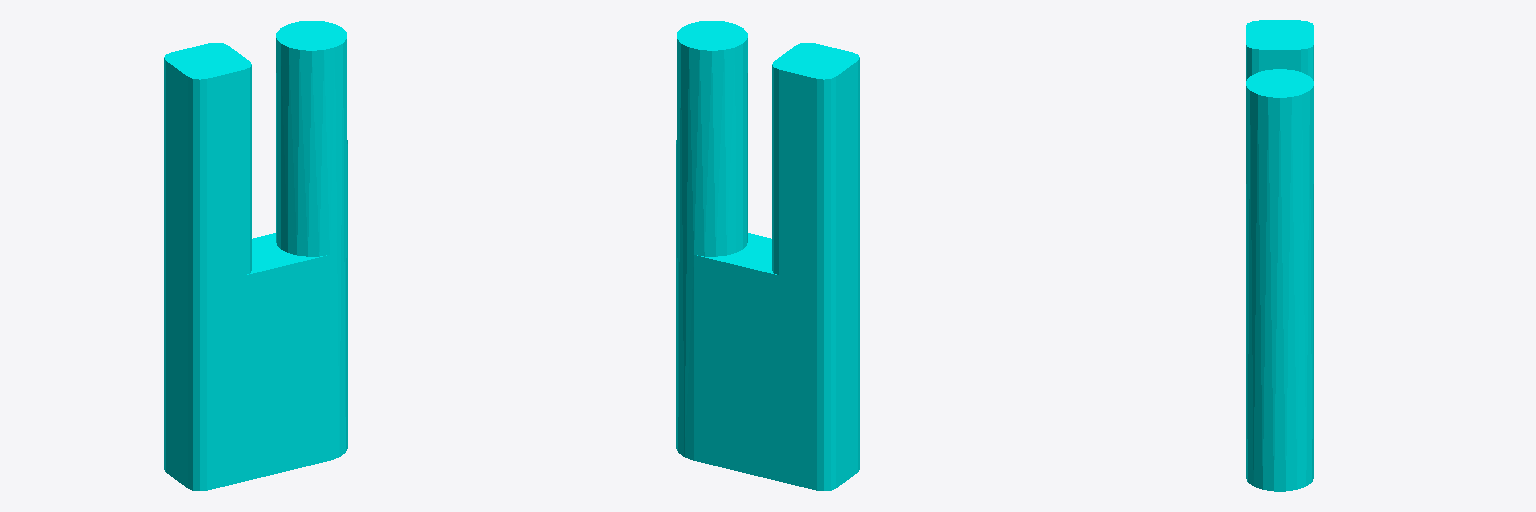
The robot description file, URDF, robot "Large_Long_SquareCircle_Brown":
<?xml version="1.0"?>
<robot name="Large_Long_SquareCircle_Brown">
    <link name="Large_Long_SquareCircle_Brown">
        <visual>
            <geometry>
                <mesh filename="../mesh/factory_insertion/Large_Long_SquareCircle_Brown.obj" scale="0.001 0.001 0.001"/>
            </geometry>
            <material name="Brown">
              <color rgba="0 1.0 1.0 1.0"/>
            </material>
        </visual>
        <collision>
            <geometry>
                <mesh filename="../mesh/factory_insertion/Large_Long_SquareCircle_Brown.obj" scale="0.001 0.001 0.001"/>
            </geometry>
            <sdf resolution="512"/>
        </collision>
    </link>
</robot>

--- What the picture shows (computed from the rendered views, not written in the file) ---
Views: 3 orthographic renders of the robot side by side, from view 1: azimuth 30°, elevation 25°; view 2: azimuth 150°, elevation 25°; view 3: azimuth 270°, elevation 25°.
Model Large_Long_SquareCircle_Brown with 1 links and 0 joints (none), rooted at Large_Long_SquareCircle_Brown, posed all joints at 0.
Links seen in each view (by area): view 1: Large_Long_SquareCircle_Brown; view 2: Large_Long_SquareCircle_Brown; view 3: Large_Long_SquareCircle_Brown.
Boxes of the visible links, x1,y1,x2,y2 form: Large_Long_SquareCircle_Brown: [164, 21, 347, 490]; Large_Long_SquareCircle_Brown: [676, 21, 859, 490]; Large_Long_SquareCircle_Brown: [1246, 20, 1313, 491].
Bounding box of the posed robot: 0.0634 × 0.0238 × 0.15 m (x, y, z).
Meshes: 1 distinct files referenced, 1 mesh visuals loaded (1 OBJ).
